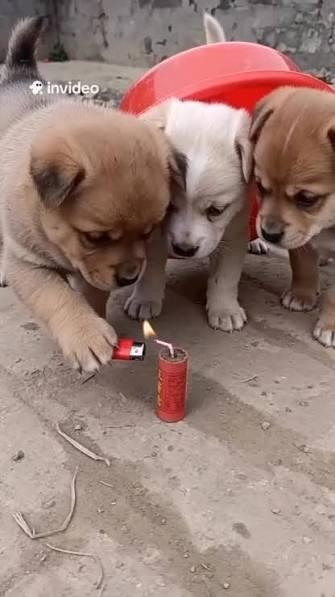puppy-dog: (0, 14, 184, 375), (128, 95, 255, 333), (243, 81, 335, 351)
